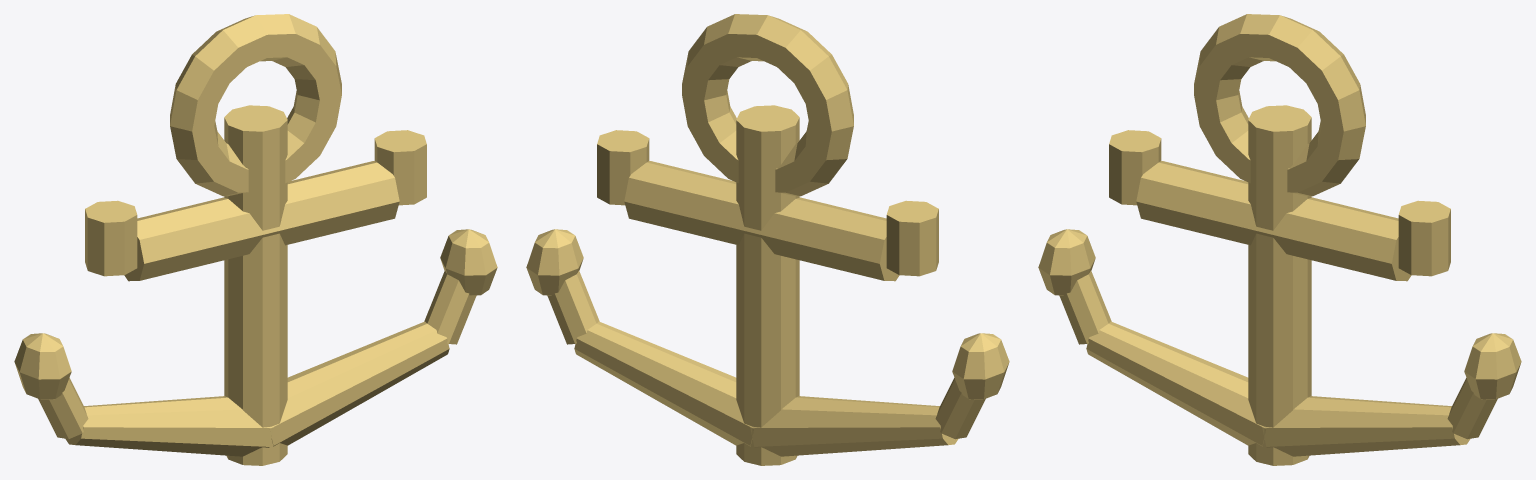
The model's file is ancla_dorada.glb.
3 renders of one model, left to right at view 1: azimuth 30°, elevation 25°; view 2: azimuth 150°, elevation 25°; view 3: azimuth 330°, elevation 25°, orthographic.
Parts seen in each view (by area): view 1: ancla_dorada; view 2: ancla_dorada; view 3: ancla_dorada.
Boxes of the visible parts, x1=… form: ancla_dorada: x1=14, y1=14, x2=497, y2=465; ancla_dorada: x1=526, y1=14, x2=1009, y2=465; ancla_dorada: x1=1038, y1=14, x2=1521, y2=465.
Size of the model in its own units: 1.11 by 0.9873 by 0.14.
